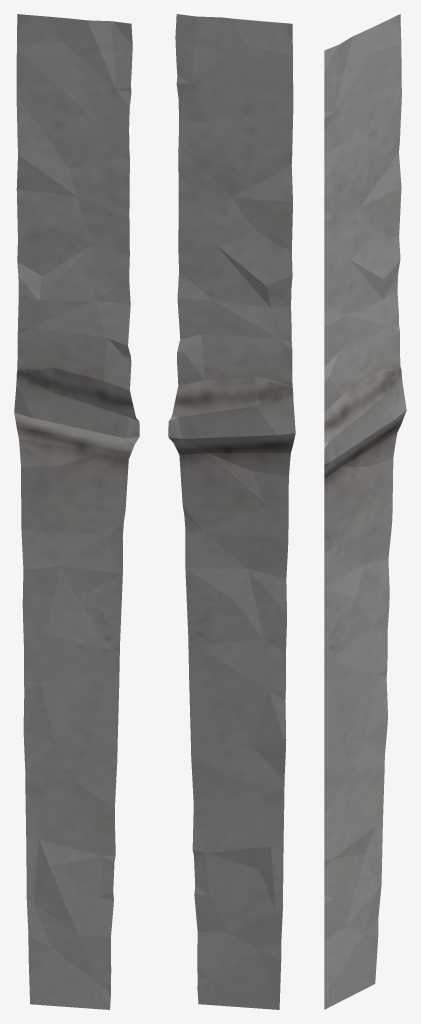
The picture shows the model from 3 angles, left to right: view 1: azimuth 30°, elevation 25°; view 2: azimuth 210°, elevation 25°; view 3: azimuth 270°, elevation 25°; orthographic projection. The views are drawn at different scales.
Size of the model in its own units: 0.075 by 0.8373 by 0.0645.
1 material, 1 textured.
